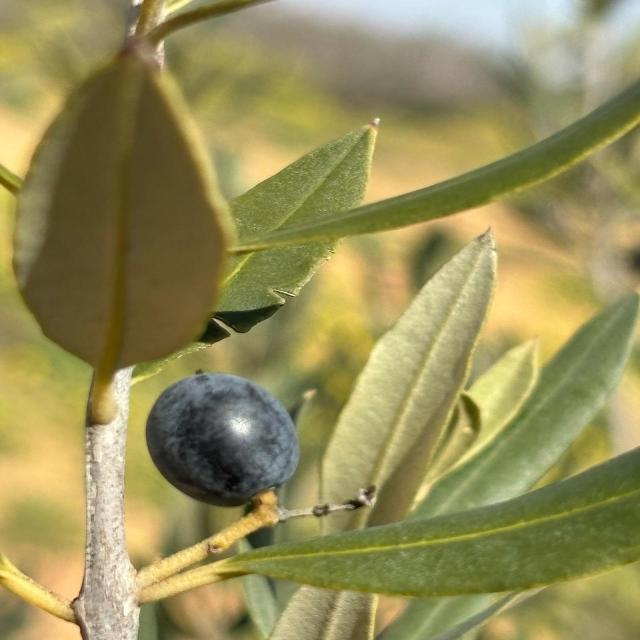Healthy: (145, 370, 299, 512)
